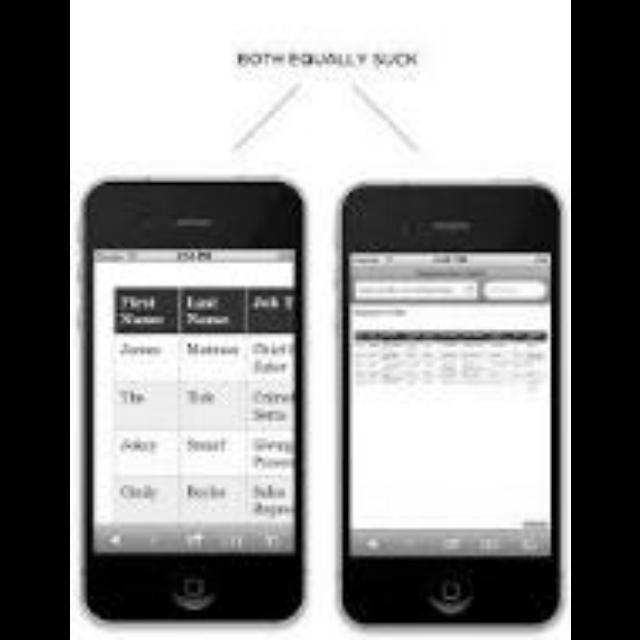fake: (335, 170, 570, 636), (76, 168, 312, 631)
